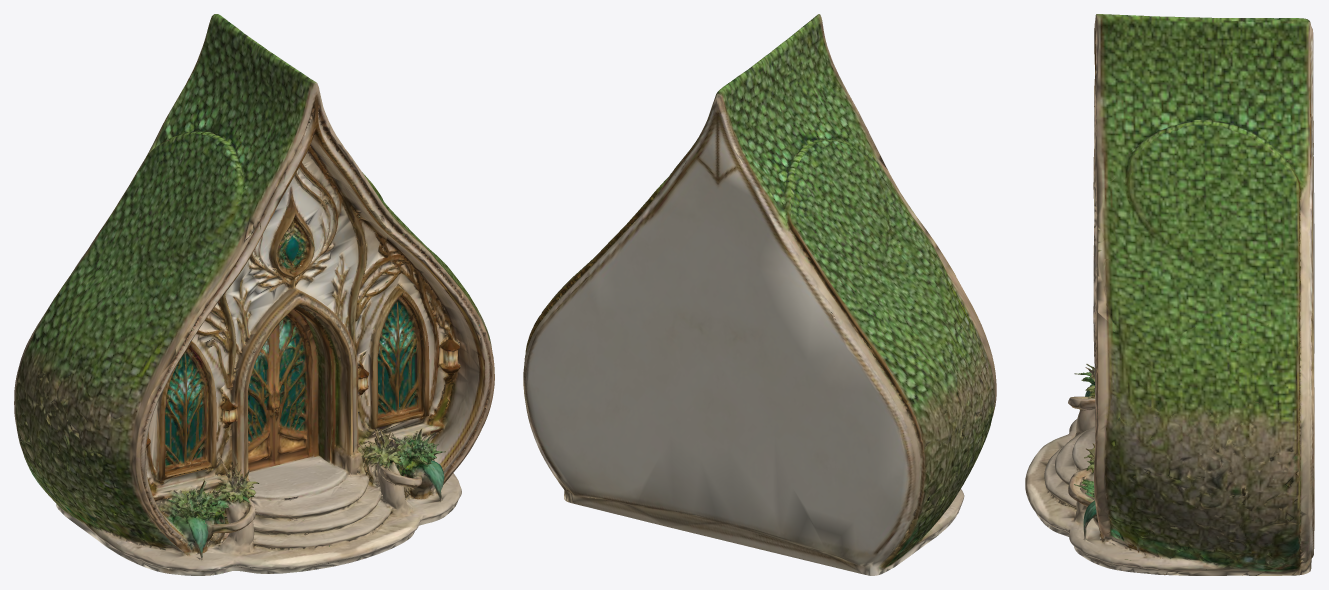
File: Leafspire_Cathedral.glb
The picture shows the model from 3 angles, left to right: view 1: azimuth 30°, elevation 25°; view 2: azimuth 150°, elevation 25°; view 3: azimuth 270°, elevation 25°; orthographic projection. The views are drawn at different scales.
Parts seen in each view (by area): view 1: Leafspire_Cathedral; view 2: Leafspire_Cathedral; view 3: Leafspire_Cathedral.
Boxes of the visible parts, x1,y1,x2,y2 form: Leafspire_Cathedral: (14,14,494,575); Leafspire_Cathedral: (523,14,996,575); Leafspire_Cathedral: (1025,14,1314,575).
Bounding box in the file's own units: 1.8 × 1.9 × 1.04.
1 material, 1 textured.
